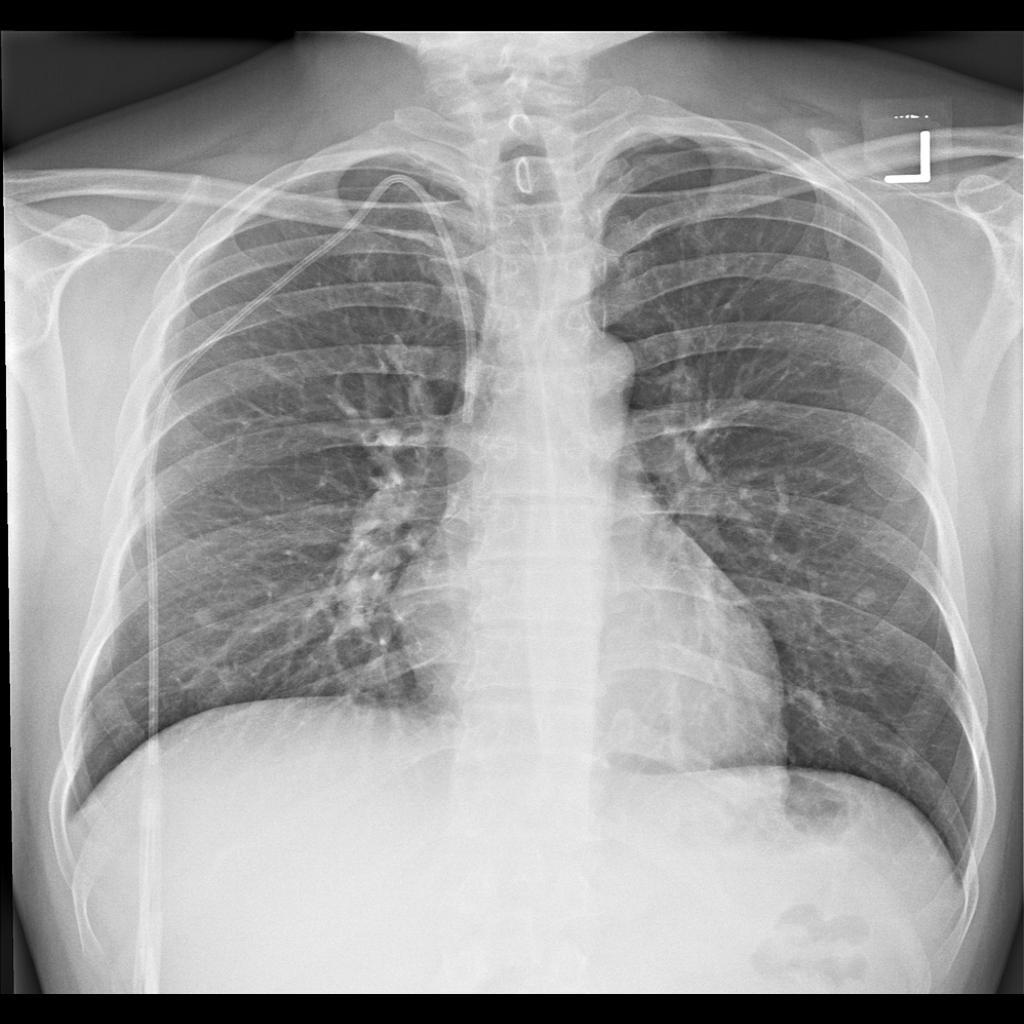Nodule: (853, 582, 880, 616), (192, 603, 218, 630)
